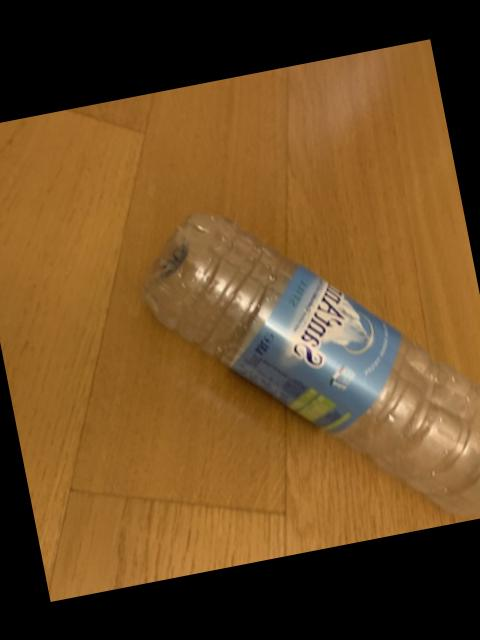plastic: (147, 215, 480, 515)
